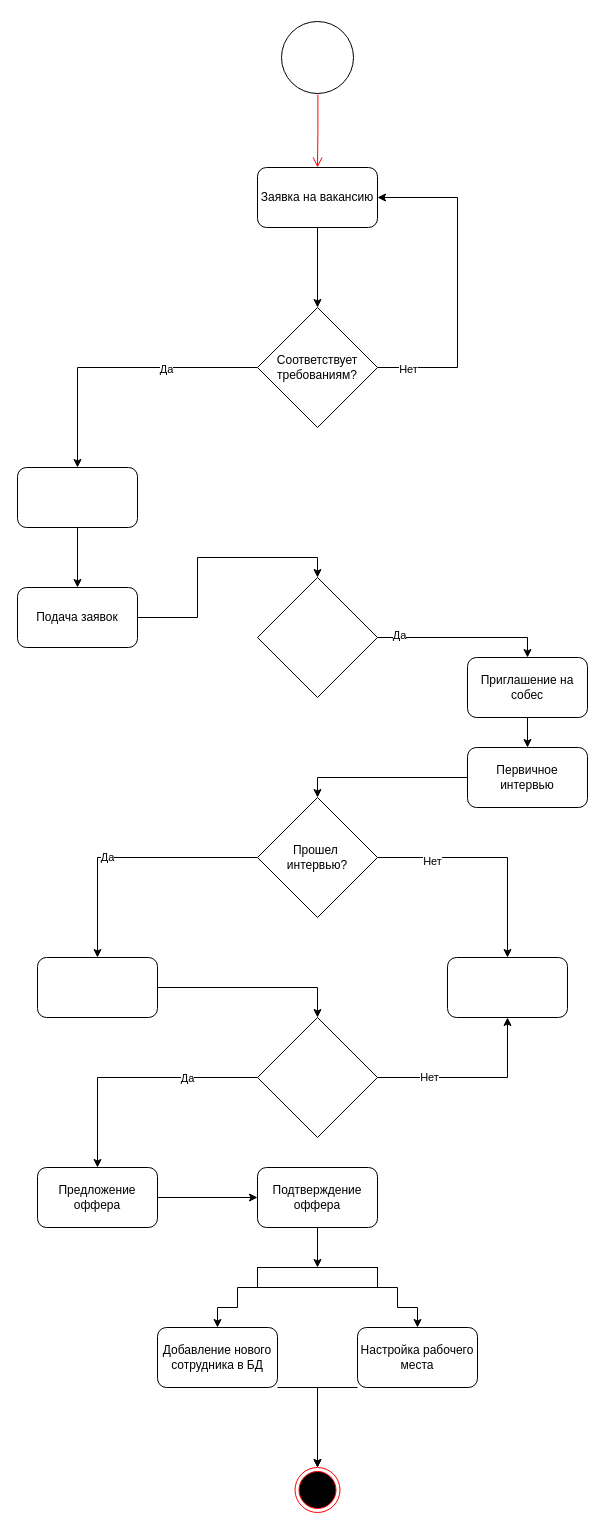
This 605x1530 diagram has some shape labels left out. Each missing label, with the centre of its shape:
Подходит анкета?: point 317,637
Прошел тех. с обес?: point 317,1077
Публикация на сайте: point 77,497
Тех. собеседование: point 97,987
Уведомление о отказе: point 507,987
